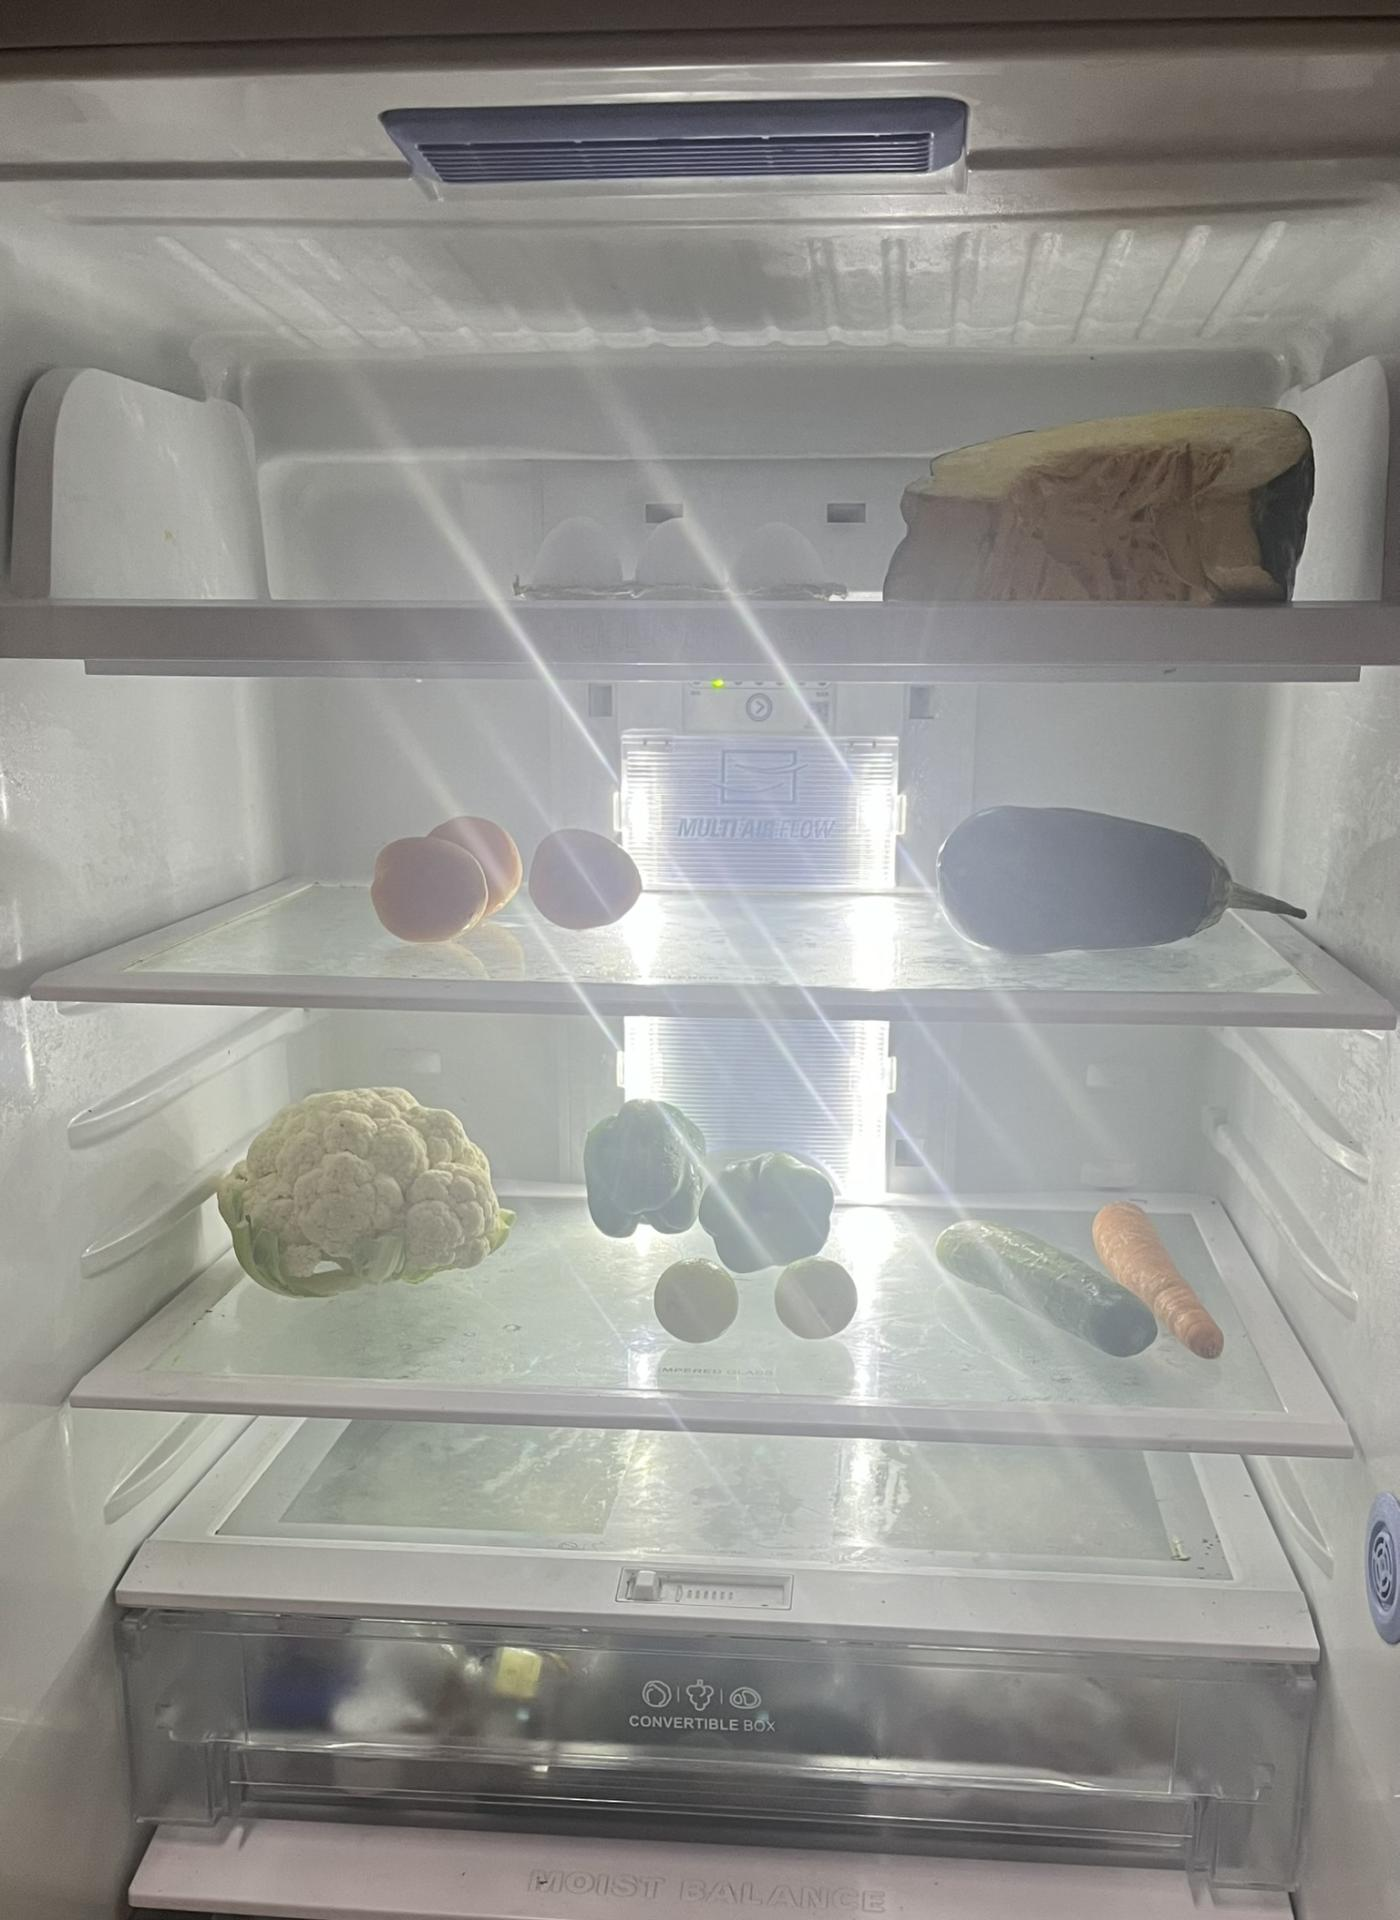brinjal: (924, 799, 1270, 954)
capsicum: (574, 1106, 842, 1272)
carrots: (1093, 1191, 1226, 1360)
cauliflower: (216, 1070, 514, 1289)
cucumber: (926, 1219, 1161, 1373)
egg: (544, 522, 838, 604)
lemon: (649, 1236, 742, 1349), (771, 1243, 859, 1354)
pumpkin: (889, 394, 1305, 604)
tomato: (364, 806, 528, 938), (532, 826, 655, 933)
